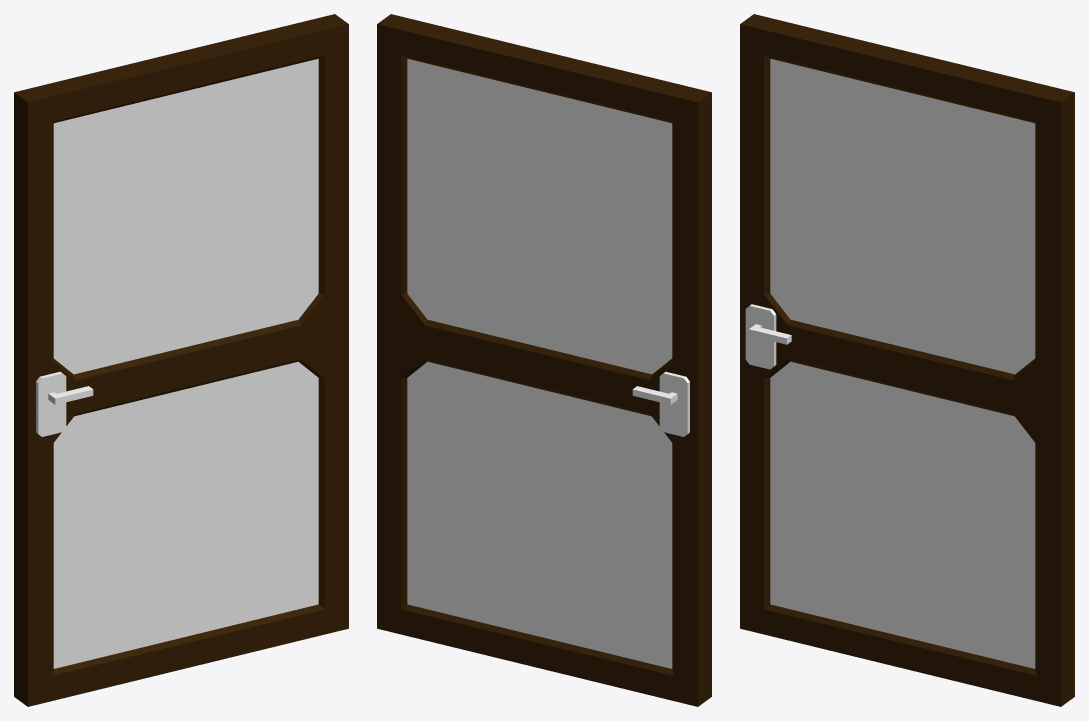
The model's file is Classic_Door_01_snaps001.fbx.
3 renders of one model, left to right at view 1: azimuth 30°, elevation 25°; view 2: azimuth 150°, elevation 25°; view 3: azimuth 330°, elevation 25°, orthographic.
Visible parts, largest first — view 1: Classic_Door_01_snaps001_frag_057, Classic_Door_01_snaps001_frag_006, Classic_Door_01_snaps001_frag_034, Classic_Door_01_snaps001_frag_003, Classic_Door_01_snaps001_frag_031, Classic_Door_01_snaps001_frag_036, Classic_Door_01_snaps001_frag_026, Classic_Door_01_snaps001_frag_010, Classic_Door_01_snaps001_frag_035, Classic_Door_01_snaps001_frag_007, Classic_Door_01_snaps001_frag_025, Classic_Door_01_snaps001_frag_019 (+35 smaller); view 2: Classic_Door_01_snaps001_frag_057, Classic_Door_01_snaps001_frag_006, Classic_Door_01_snaps001_frag_003, Classic_Door_01_snaps001_frag_026, Classic_Door_01_snaps001_frag_022, Classic_Door_01_snaps001_frag_036, Classic_Door_01_snaps001_frag_025, Classic_Door_01_snaps001_frag_031, Classic_Door_01_snaps001_frag_007, Classic_Door_01_snaps001_frag_019, Classic_Door_01_snaps001_frag_024, Classic_Door_01_snaps001_frag_013 (+37 smaller); view 3: Classic_Door_01_snaps001_frag_057, Classic_Door_01_snaps001_frag_006, Classic_Door_01_snaps001_frag_034, Classic_Door_01_snaps001_frag_003, Classic_Door_01_snaps001_frag_031, Classic_Door_01_snaps001_frag_036, Classic_Door_01_snaps001_frag_007, Classic_Door_01_snaps001_frag_010, Classic_Door_01_snaps001_frag_035, Classic_Door_01_snaps001_frag_025, Classic_Door_01_snaps001_frag_043, Classic_Door_01_snaps001_frag_026 (+36 smaller).
Part boxes in pixels (<box>): Classic_Door_01_snaps001_frag_057: <box>248,159,348,298</box>; Classic_Door_01_snaps001_frag_006: <box>146,26,303,145</box>; Classic_Door_01_snaps001_frag_034: <box>149,219,271,339</box>; Classic_Door_01_snaps001_frag_003: <box>33,60,161,175</box>; Classic_Door_01_snaps001_frag_031: <box>101,114,220,244</box>; Classic_Door_01_snaps001_frag_036: <box>215,16,348,183</box>; Classic_Door_01_snaps001_frag_026: <box>14,589,96,706</box>; Classic_Door_01_snaps001_frag_010: <box>118,401,205,526</box>; Classic_Door_01_snaps001_frag_035: <box>139,522,233,638</box>; Classic_Door_01_snaps001_frag_007: <box>252,565,348,648</box>; Classic_Door_01_snaps001_frag_025: <box>83,536,163,659</box>; Classic_Door_01_snaps001_frag_019: <box>14,526,123,616</box>; Classic_Door_01_snaps001_frag_057: <box>377,162,478,299</box>; Classic_Door_01_snaps001_frag_006: <box>428,25,582,143</box>; Classic_Door_01_snaps001_frag_003: <box>562,61,691,174</box>; Classic_Door_01_snaps001_frag_026: <box>623,580,711,706</box>; Classic_Door_01_snaps001_frag_022: <box>476,146,588,263</box>; Classic_Door_01_snaps001_frag_036: <box>388,14,511,176</box>; Classic_Door_01_snaps001_frag_025: <box>563,536,637,672</box>; Classic_Door_01_snaps001_frag_031: <box>511,114,622,230</box>; Classic_Door_01_snaps001_frag_007: <box>377,559,468,646</box>; Classic_Door_01_snaps001_frag_019: <box>600,521,711,606</box>; Classic_Door_01_snaps001_frag_024: <box>377,103,487,213</box>; Classic_Door_01_snaps001_frag_013: <box>586,317,711,414</box>; Classic_Door_01_snaps001_frag_057: <box>965,230,1074,371</box>; Classic_Door_01_snaps001_frag_006: <box>869,46,1023,160</box>; Classic_Door_01_snaps001_frag_034: <box>866,249,988,345</box>; Classic_Door_01_snaps001_frag_003: <box>745,29,885,134</box>; Classic_Door_01_snaps001_frag_031: <box>817,102,937,222</box>; Classic_Door_01_snaps001_frag_036: <box>932,80,1063,210</box>; Classic_Door_01_snaps001_frag_007: <box>969,620,1074,706</box>; Classic_Door_01_snaps001_frag_010: <box>834,390,922,510</box>; Classic_Door_01_snaps001_frag_035: <box>856,509,950,627</box>; Classic_Door_01_snaps001_frag_025: <box>800,513,880,630</box>; Classic_Door_01_snaps001_frag_043: <box>917,334,994,445</box>; Classic_Door_01_snaps001_frag_026: <box>740,538,812,636</box>.
Size of the model in its own units: 49.21 by 88.58 by 8.61.
